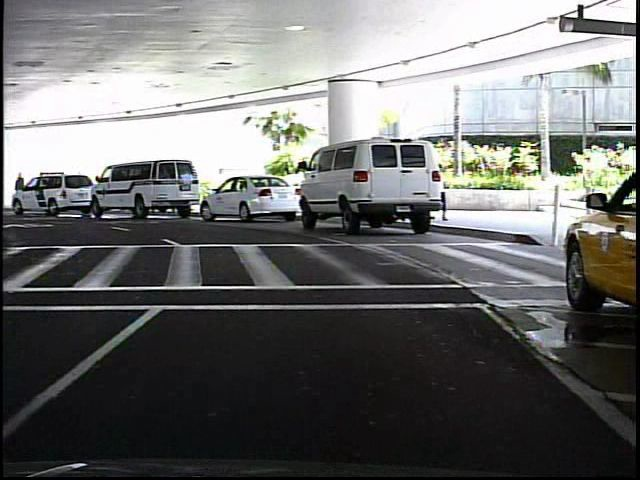person: (14, 170, 32, 208)
